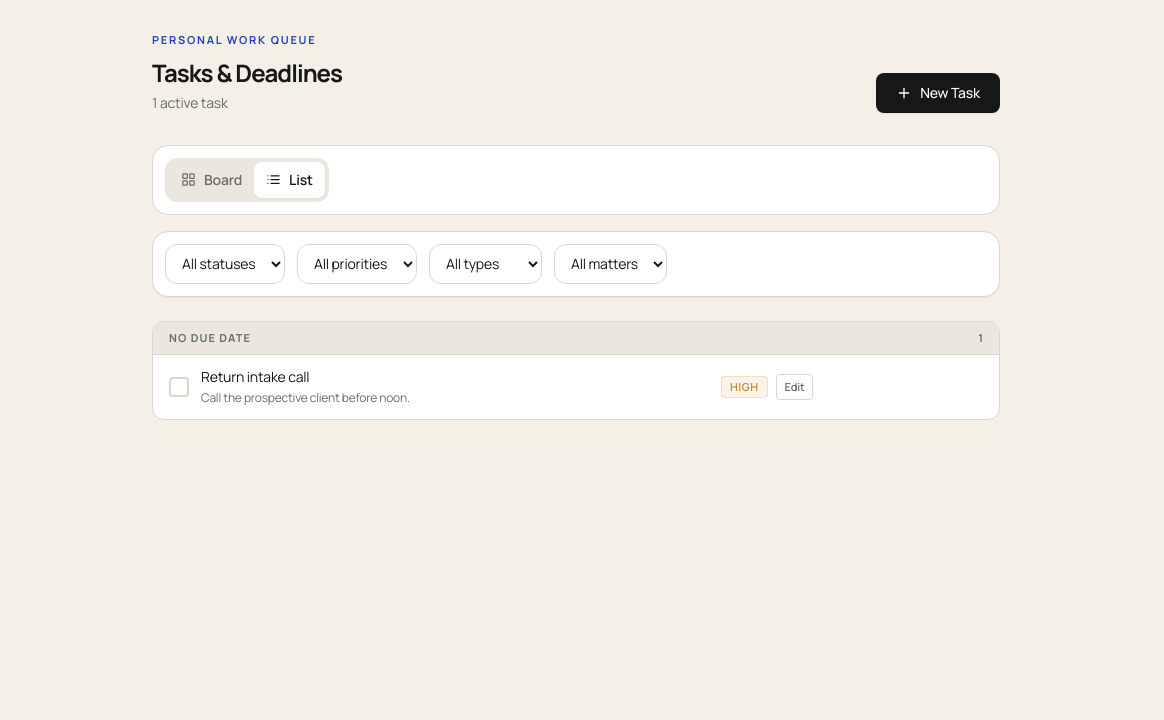
TasksPage accessibility › switches between the deadline list and scoped firm board
This screenshot has width=1164, height=720.
Expected: the text "Return intake call" is shown, [201,367,309,386]
Click the button "Board": (212, 180) [169,162,254,198]
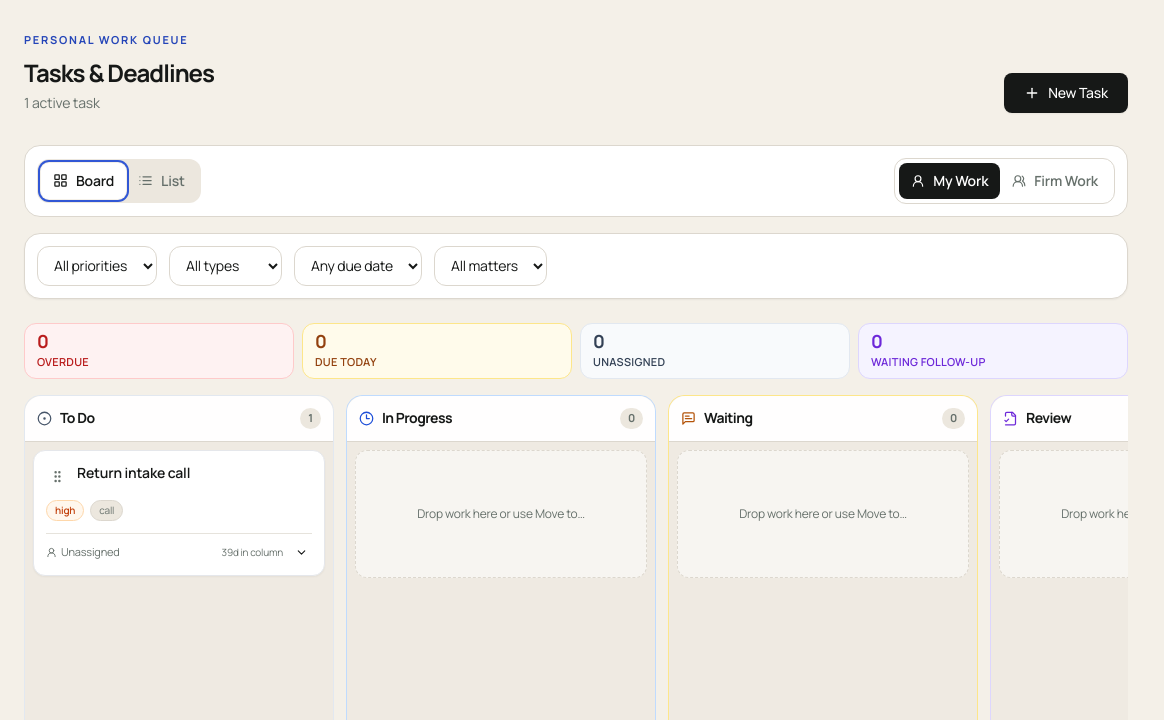
Result: the heading "To Do" is shown at [60,408,94,428]
Click the button "Firm Work": (1055, 180) [1000,162,1110,198]
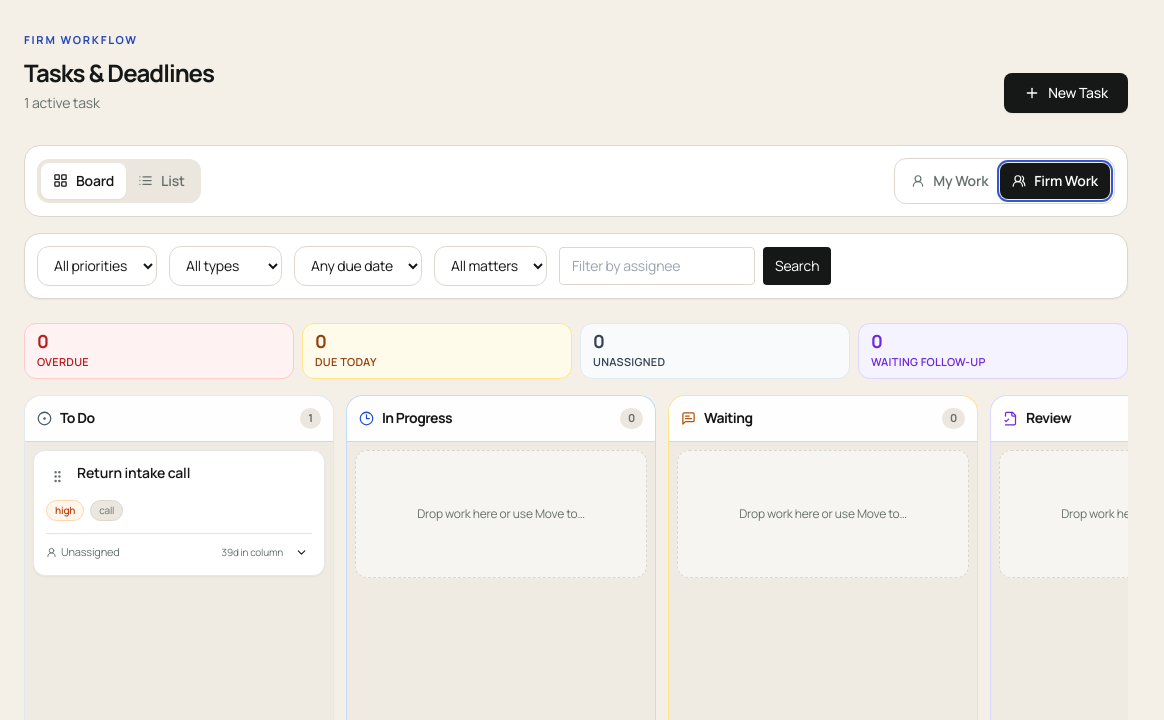
Result: the text "Firm workflow" is shown at [24,32,138,47]
